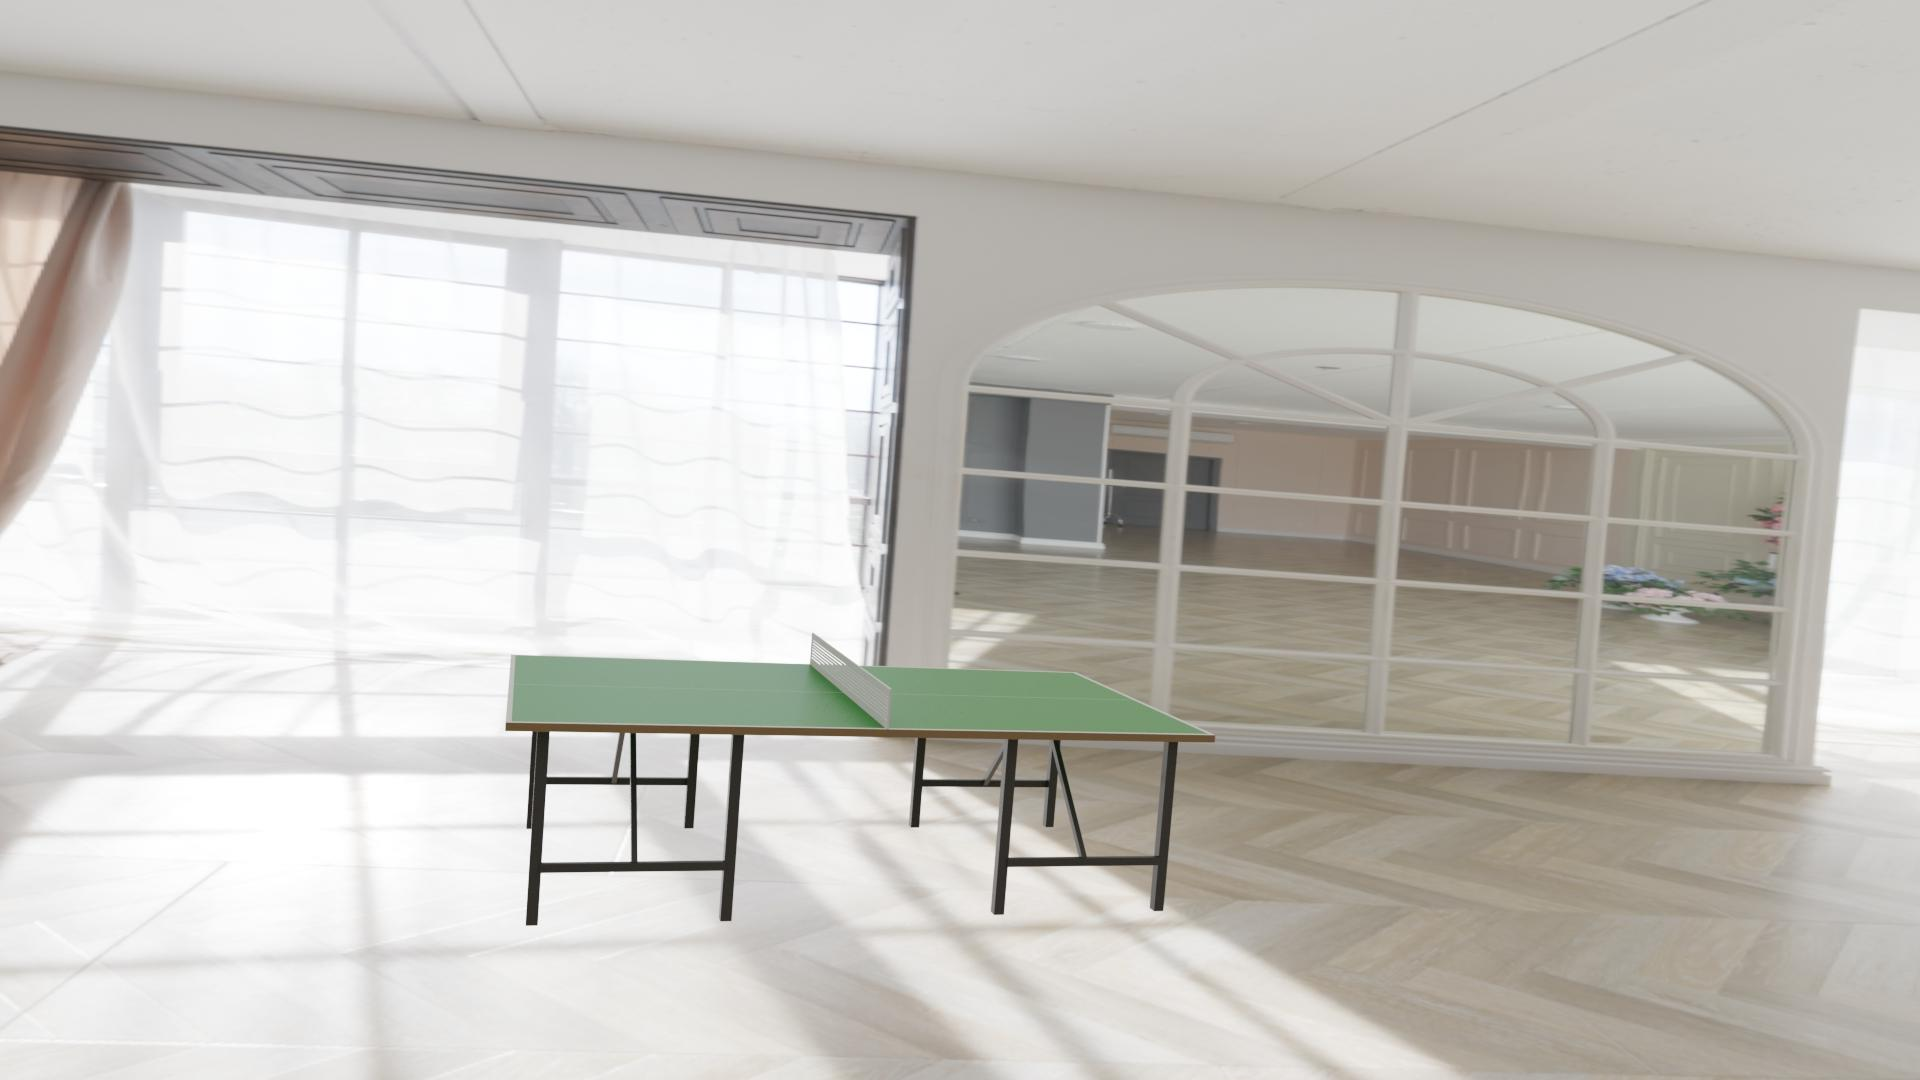table: (512, 655, 1209, 735)
